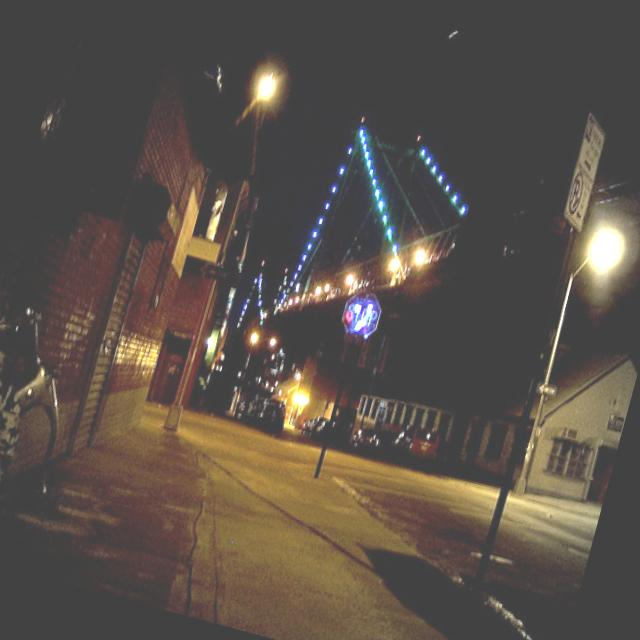Vehicle: (348, 414, 410, 468), (401, 422, 443, 476), (251, 394, 290, 436), (300, 414, 318, 438), (310, 416, 328, 440)
